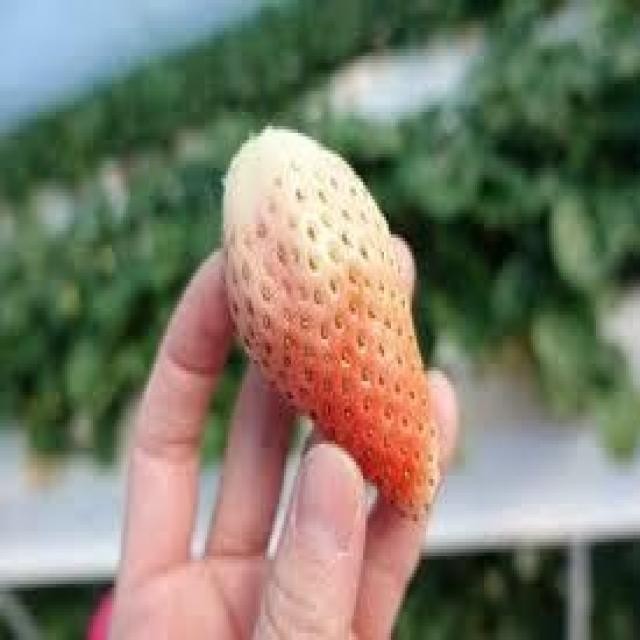Healthy Fruit: (220, 124, 441, 521)
